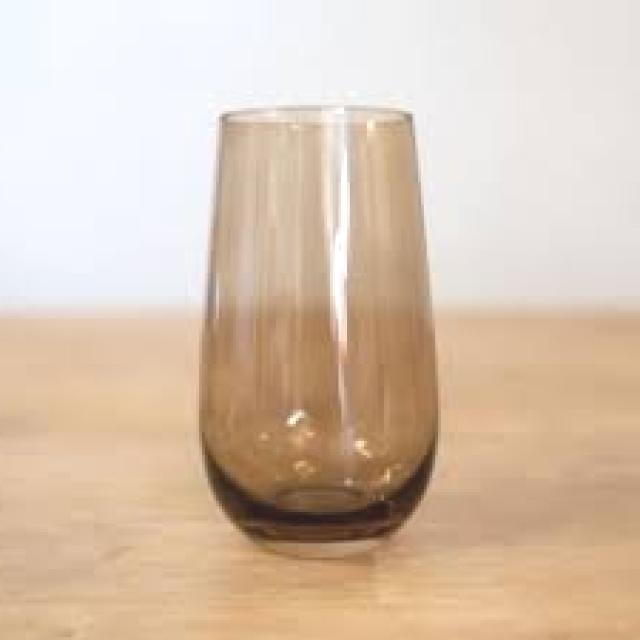inorganic: (199, 106, 435, 557)
